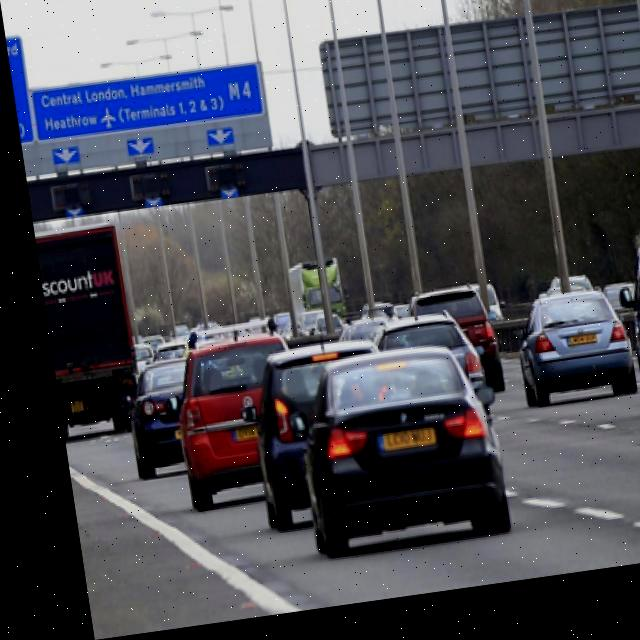license_plate: (362, 435, 426, 461), (550, 342, 586, 362)
